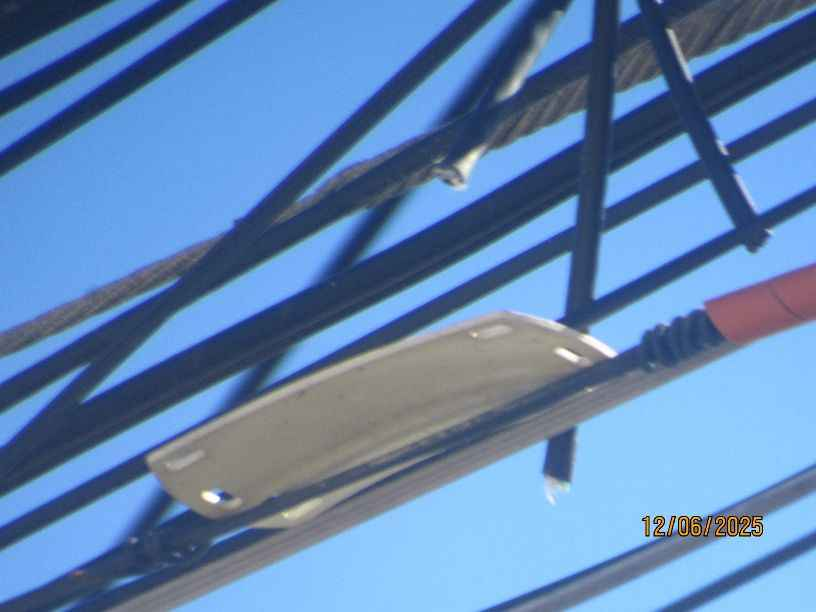fibra_optica: (118, 250, 627, 580)
